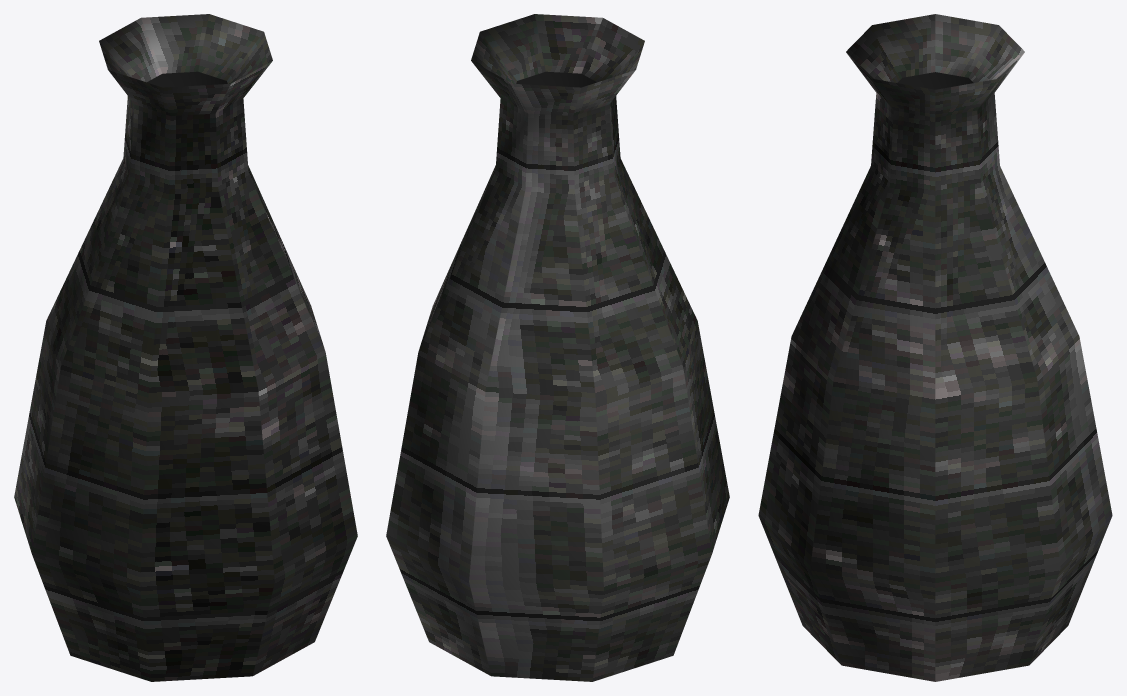
Rendered from URN1_ACTORDEF.fbx.
3 renders of one model, left to right at view 1: azimuth 30°, elevation 25°; view 2: azimuth 150°, elevation 25°; view 3: azimuth 270°, elevation 25°, orthographic.
Visible parts, largest first — view 1: U3DMesh; view 2: U3DMesh; view 3: U3DMesh.
Boxes of the visible parts, <box> form: U3DMesh: <box>14,14,357,681</box>; U3DMesh: <box>386,14,729,681</box>; U3DMesh: <box>758,14,1112,681</box>.
Size of the model in its own units: 2.45 by 4.39 by 2.45.
